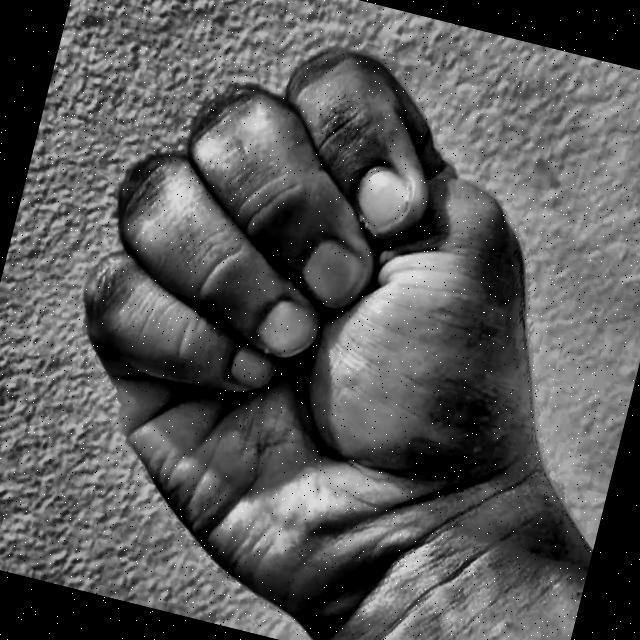To: (0, 0, 631, 640)
